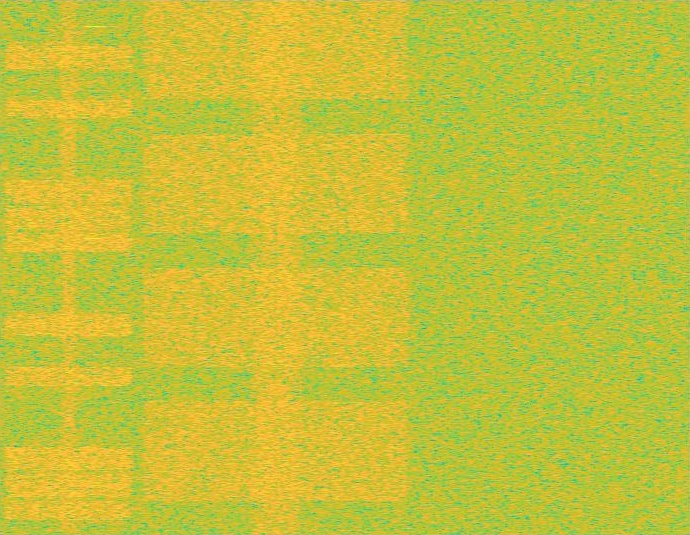5G: (138, 0, 414, 534)
DSSS: (245, 0, 307, 534), (60, 0, 78, 534)
LTE: (0, 0, 138, 534)
Radar: (88, 0, 101, 534)
